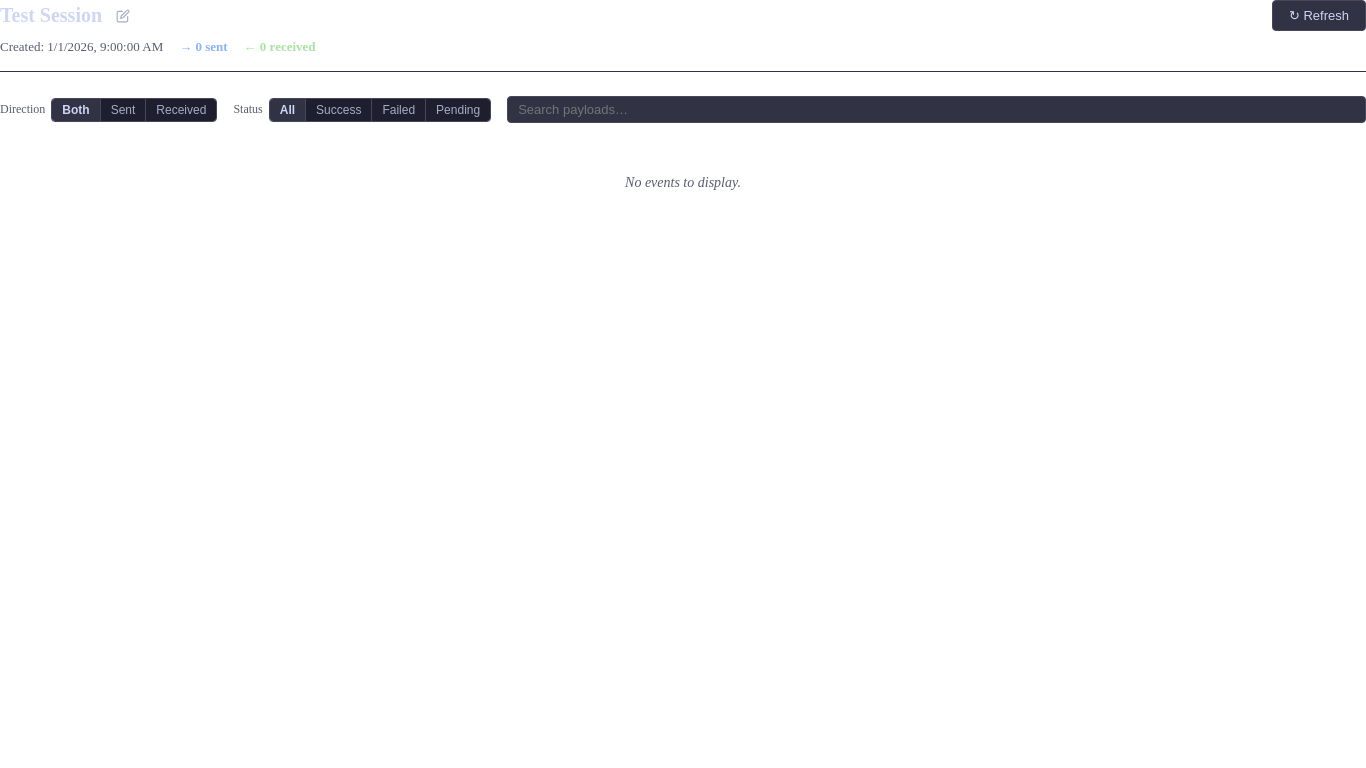
SessionView component › renames the session from the title edit icon using popup modal
Click the button with test id "rename-session-btn" at (123,16), box [110,2,136,28]
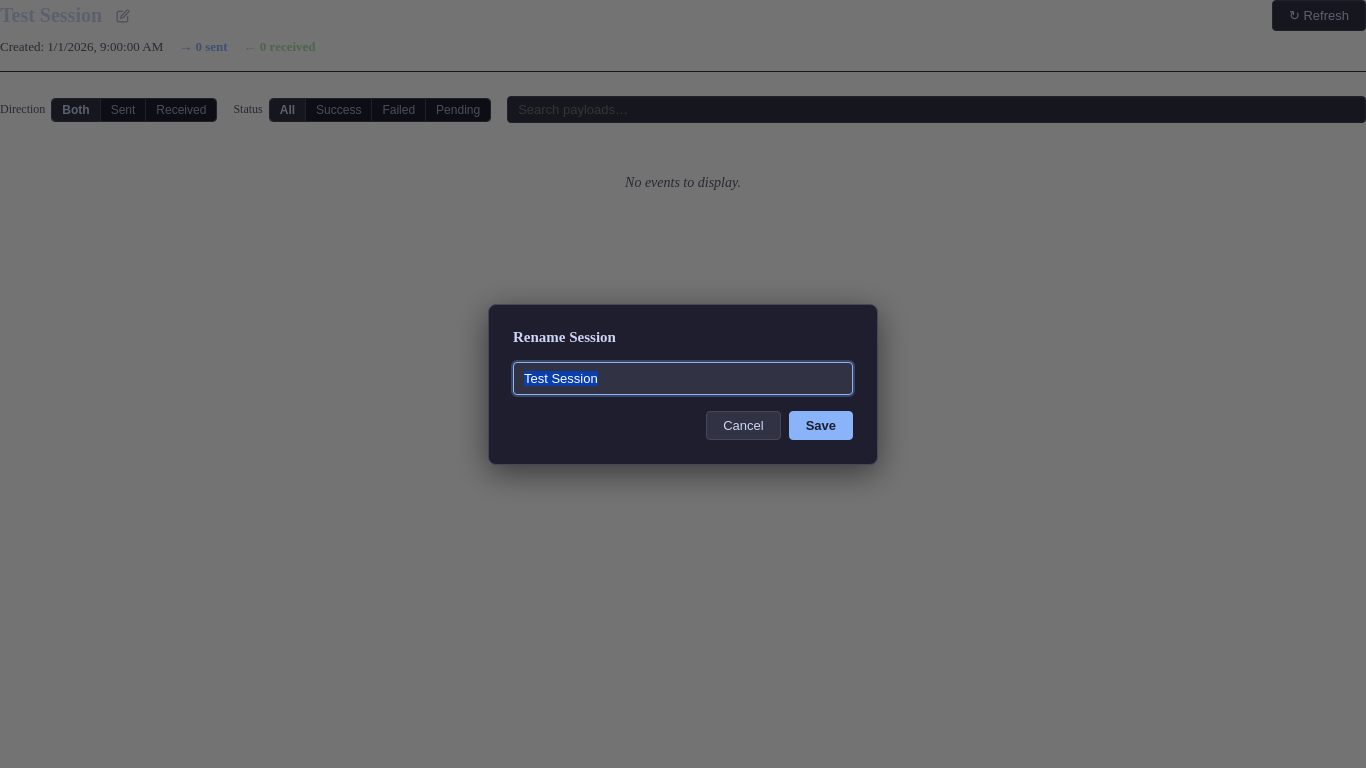
Expected: the element with test id "rename-session-modal" is shown
Expected: the field with test id "session-rename-input" is shown
Replace the text in the field with test id "session-rename-input" with "Renamed Session" at (683,378), box [513,362,853,394]
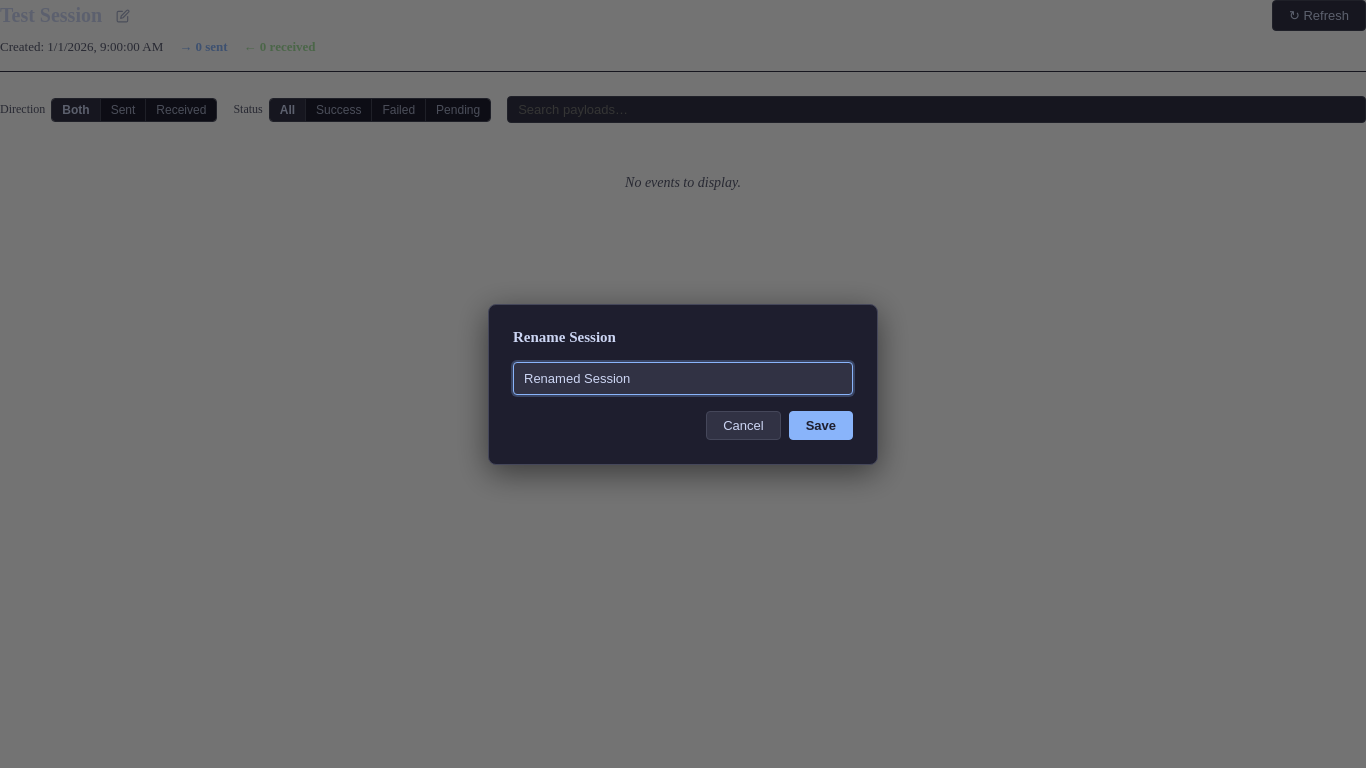
Expected: the button with test id "session-rename-save" is shown
Click the button with test id "session-rename-save" at (821,425), box [789,410,853,440]
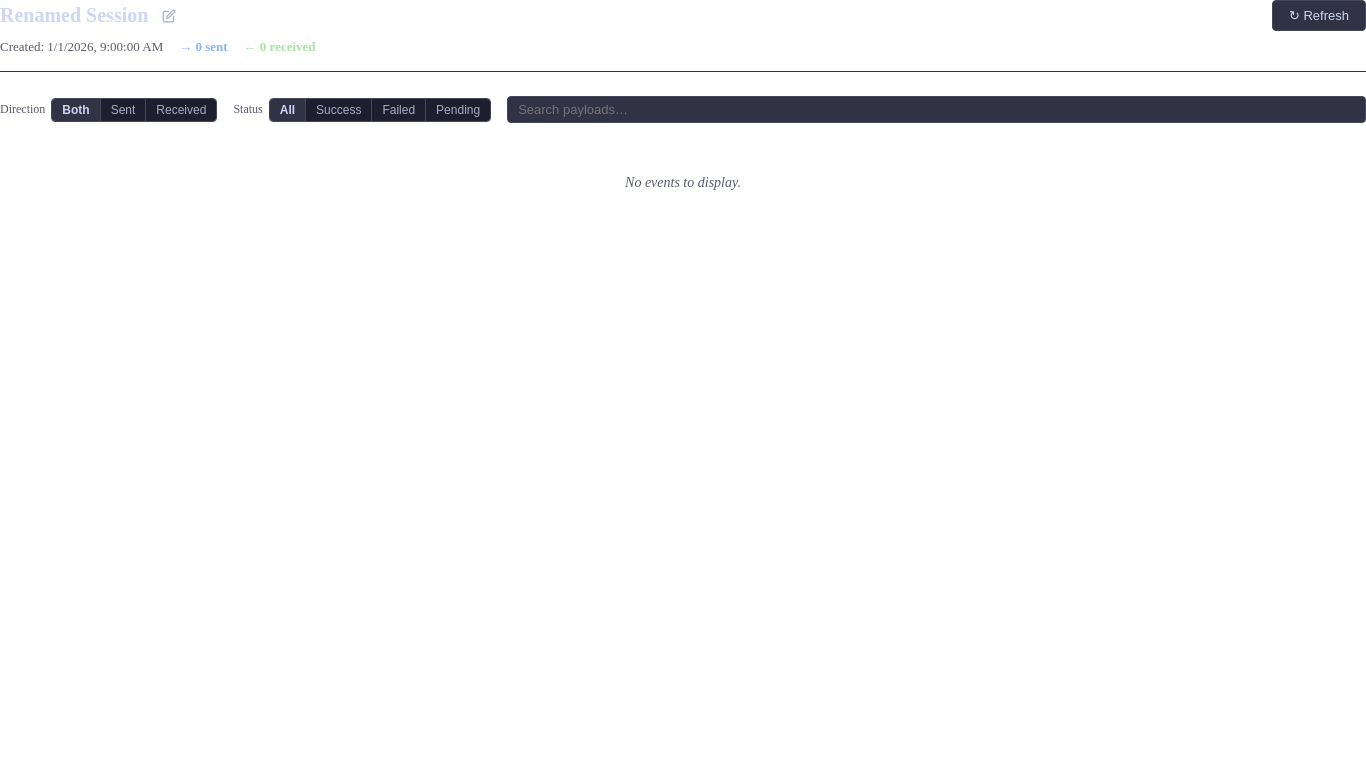
Expected: the heading "Renamed Session" reads "Renamed Session", [0,4,148,26]
Expected: the element with test id "rename-session-modal" is gone
